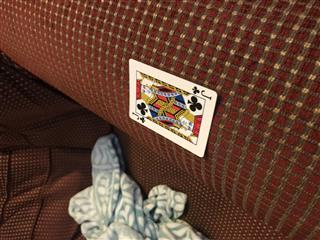JackOfClubs: (127, 58, 218, 157)
